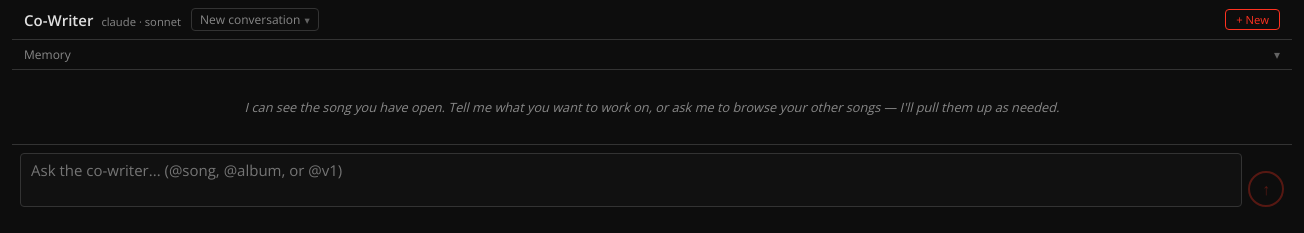
Scenario: CoWriterPanel failed turns › names a stream that ends before its final event
Type "write a chorus" into the text box with class "chat-input" at (631, 180), box [20,153,1242,207]
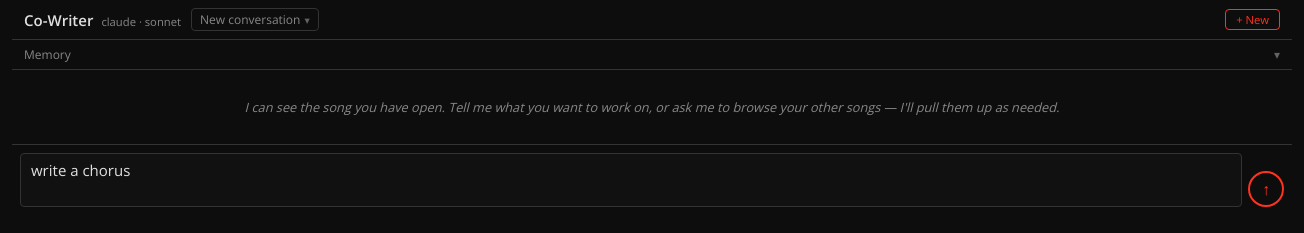
Click the button with class "send-btn" at (1266, 189), box [1248,171,1284,207]
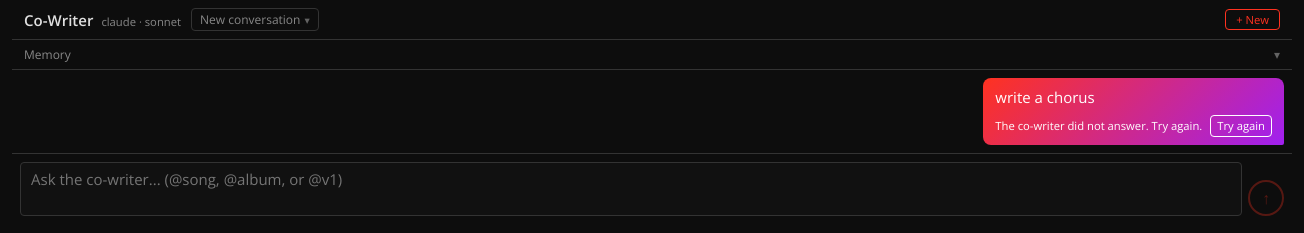
Now the message with class "turn-error" shows "The co-writer did not answer. Try again.", box [995,118,1202,132]
Now the number of elements with class "user" is 1, box [983,78,1284,145]
Now the button with class "retry-turn" is shown, box [1210,114,1272,137]
